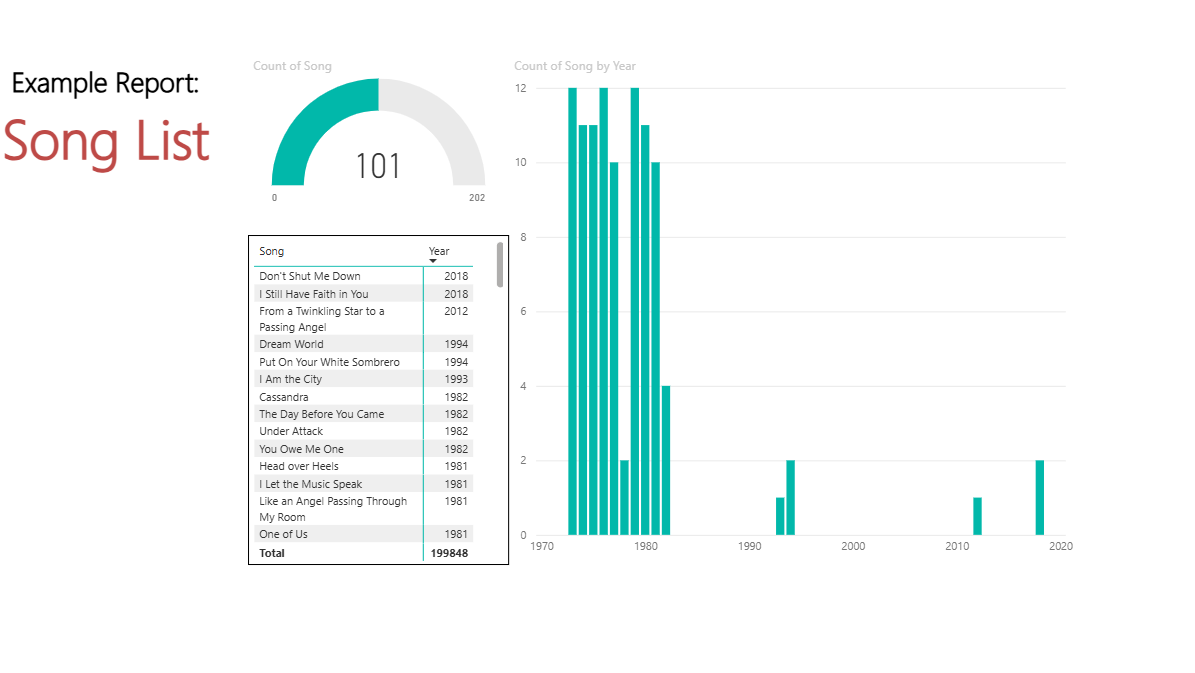

What the dashboard file says about the page in this screenshot:
{"tool":"powerbi","page":{"name":"Page 1","canvas":[1280,720],"ordinal":0},"visuals":[{"type":"pivotTable","fields":{"Rows":["Abba songs.Song"],"Values":["Sum(Abba songs.Year)"]},"box":[250,245.1,253.9,321],"z":1},{"type":"columnChart","fields":{"Y":["CountNonNull(Abba songs.Song)"],"Category":["Abba songs.Year"]},"box":[503.8,72,554.4,494.1],"z":3},{"type":"gauge","fields":{"Y":["Count(Abba songs.Song)"]},"box":[250,72,253.9,150.8],"z":4},{"type":"textbox","box":[0,72,222.7,134.2],"z":5}]}

Visuals, with their boxes in screenshot pixels (x1, y1, x2, y2), scaled from the page's 1280x720 canvas onto the 1195x673 screenshot:
pivotTable - Abba songs.Song x Sum(Abba songs.Year): pyautogui.locateOnScreen(233, 229, 470, 529)
columnChart - CountNonNull(Abba songs.Song) x Abba songs.Year: pyautogui.locateOnScreen(470, 67, 988, 529)
gauge - Count(Abba songs.Song): pyautogui.locateOnScreen(233, 67, 470, 208)
textbox: pyautogui.locateOnScreen(0, 67, 208, 193)
